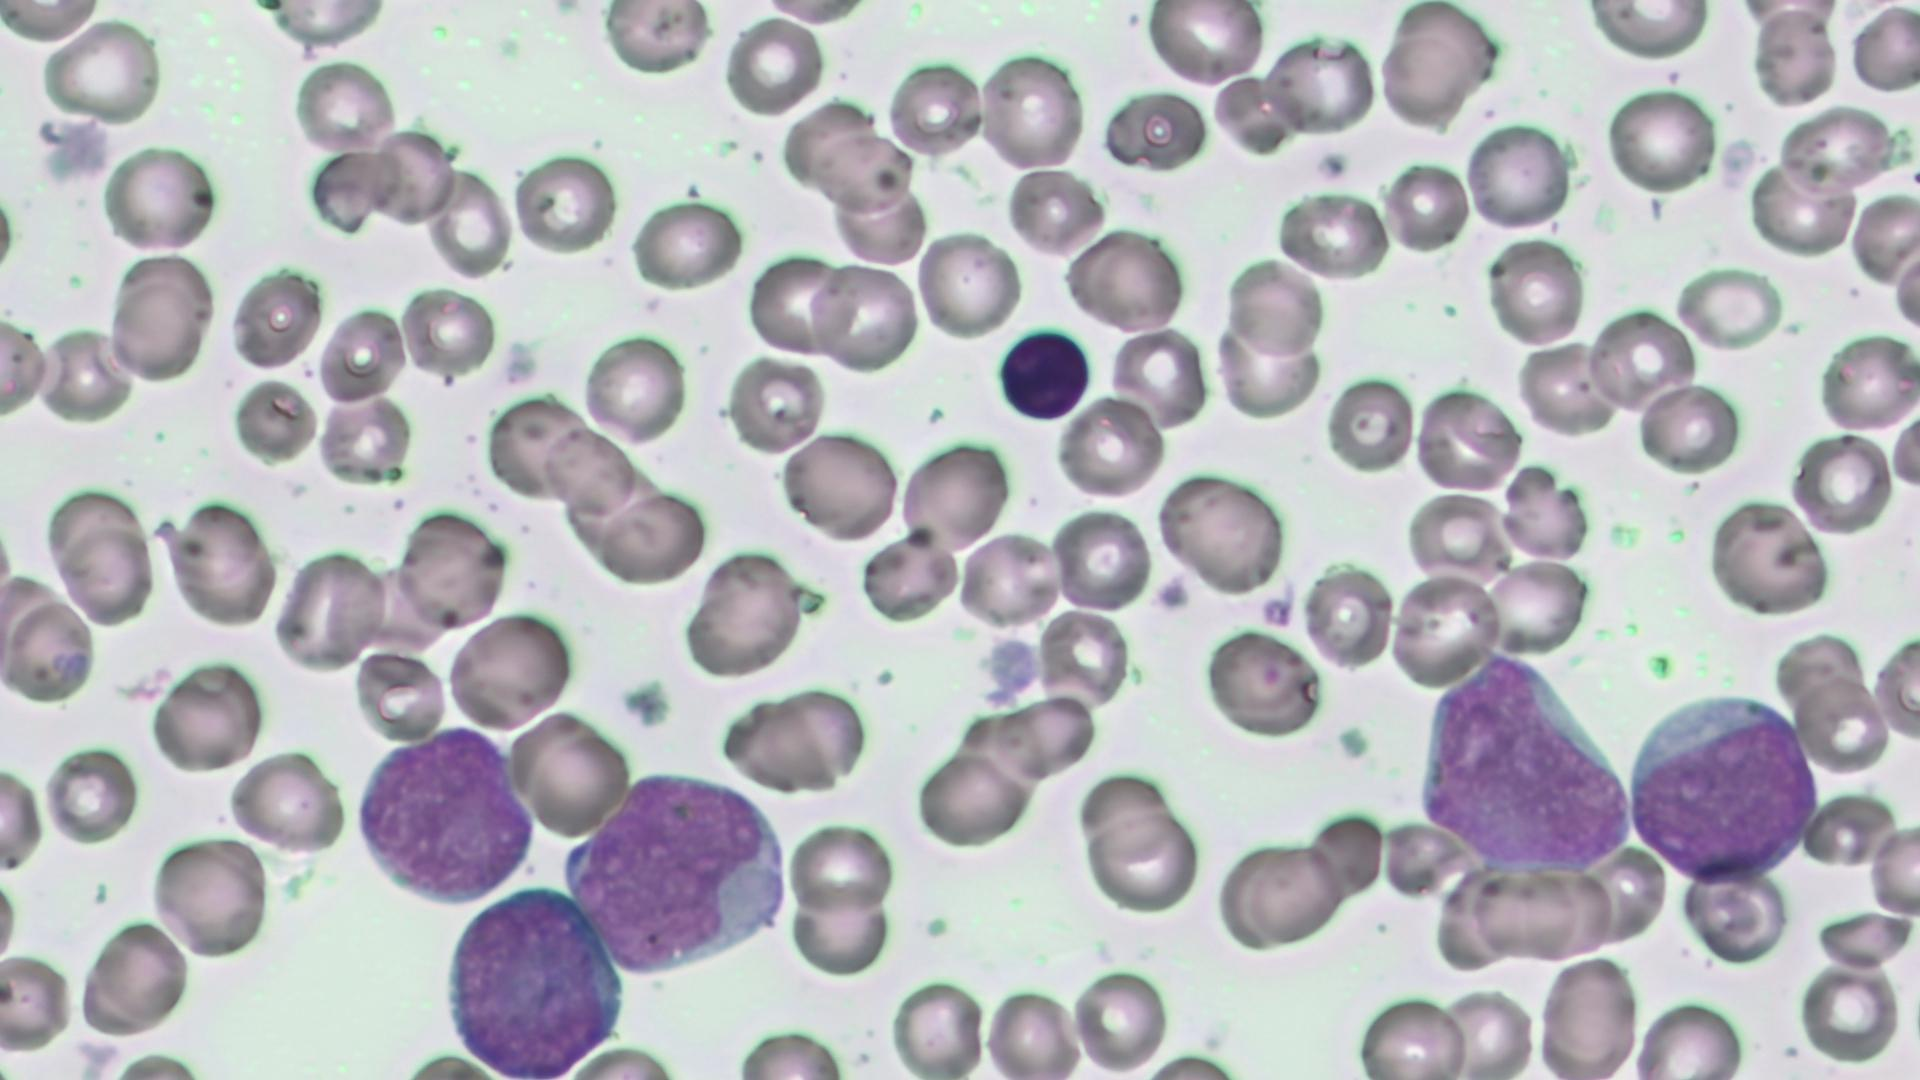Platelets: (980, 636, 1040, 705), (621, 674, 676, 731), (1151, 574, 1193, 615), (978, 686, 1015, 709)
RBC: (506, 705, 632, 845), (444, 607, 574, 735), (725, 682, 869, 796), (1156, 469, 1284, 595), (684, 550, 804, 680), (150, 833, 270, 963), (1704, 498, 1830, 616), (167, 496, 278, 628), (779, 427, 902, 545), (76, 914, 193, 1036), (396, 506, 509, 632), (272, 546, 385, 670), (1375, 7, 1490, 125), (898, 435, 1011, 555), (102, 140, 218, 256), (1065, 225, 1185, 338), (1389, 570, 1502, 687), (40, 15, 162, 123), (1203, 626, 1323, 736), (978, 50, 1083, 175), (1606, 80, 1718, 196), (914, 225, 1025, 342), (810, 260, 920, 375), (582, 330, 688, 448), (228, 748, 345, 855), (481, 392, 593, 502), (1054, 392, 1167, 501), (1538, 956, 1640, 1076), (152, 662, 261, 774), (512, 146, 620, 258), (1464, 119, 1569, 233), (1215, 309, 1323, 419), (1083, 808, 1196, 914), (1484, 233, 1586, 349), (1586, 305, 1696, 413), (1240, 837, 1346, 948), (1265, 32, 1375, 136), (1680, 860, 1788, 965), (1791, 429, 1896, 537), (1048, 502, 1153, 612), (1069, 964, 1172, 1075), (1414, 386, 1520, 492), (721, 11, 827, 117), (913, 752, 1033, 845), (628, 196, 745, 291), (744, 251, 848, 357), (1106, 324, 1209, 433), (1143, 1, 1269, 90), (724, 349, 828, 455), (1797, 961, 1904, 1064), (599, 487, 709, 585), (1, 591, 96, 705), (291, 55, 400, 156), (956, 527, 1064, 626), (108, 280, 211, 382), (885, 57, 984, 164), (1275, 187, 1389, 280), (1779, 105, 1894, 196), (1485, 556, 1590, 655), (787, 820, 895, 916), (1302, 560, 1395, 671), (1222, 257, 1325, 357), (1793, 673, 1894, 775), (44, 741, 141, 847), (425, 162, 513, 278), (1746, 162, 1857, 255), (887, 976, 986, 1077), (1515, 338, 1614, 439), (981, 982, 1084, 1080), (1035, 605, 1131, 709), (225, 266, 322, 371), (1634, 381, 1742, 473), (1816, 334, 1917, 431), (996, 324, 1093, 425), (59, 524, 154, 626), (1403, 491, 1510, 582), (1354, 992, 1468, 1076), (1323, 372, 1414, 476), (811, 127, 919, 214), (38, 322, 135, 419), (1630, 997, 1749, 1076), (860, 531, 961, 624), (1106, 86, 1215, 171), (1673, 264, 1782, 349), (398, 284, 496, 378), (316, 303, 407, 405), (789, 885, 891, 975), (1749, 7, 1840, 107), (542, 419, 637, 514), (368, 124, 456, 225), (353, 646, 446, 742), (1076, 767, 1172, 860), (1006, 167, 1105, 257), (1441, 984, 1536, 1076), (0, 942, 74, 1059), (316, 396, 414, 483), (600, 1, 712, 76), (1382, 160, 1470, 255), (1584, 1, 1713, 61), (229, 376, 316, 462), (302, 150, 389, 235), (1812, 905, 1913, 972), (1847, 3, 1920, 92), (1851, 190, 1920, 284), (732, 1025, 851, 1079), (258, 1, 388, 47), (0, 756, 45, 878), (1873, 632, 1920, 742), (0, 314, 49, 419), (1866, 823, 1920, 916), (0, 0, 105, 44), (1888, 233, 1920, 336)
WBC: (1414, 657, 1636, 884), (558, 767, 795, 980), (1618, 684, 1828, 886), (440, 884, 630, 1077), (351, 727, 538, 909)
